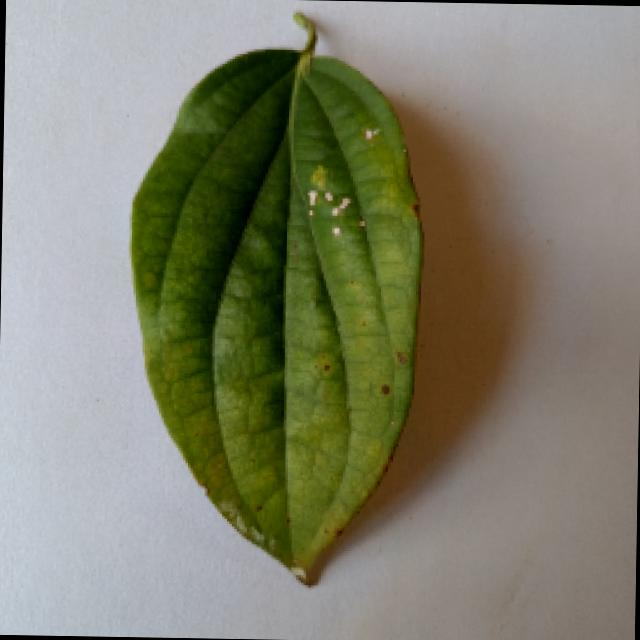pollu-disease: (118, 16, 425, 582)
